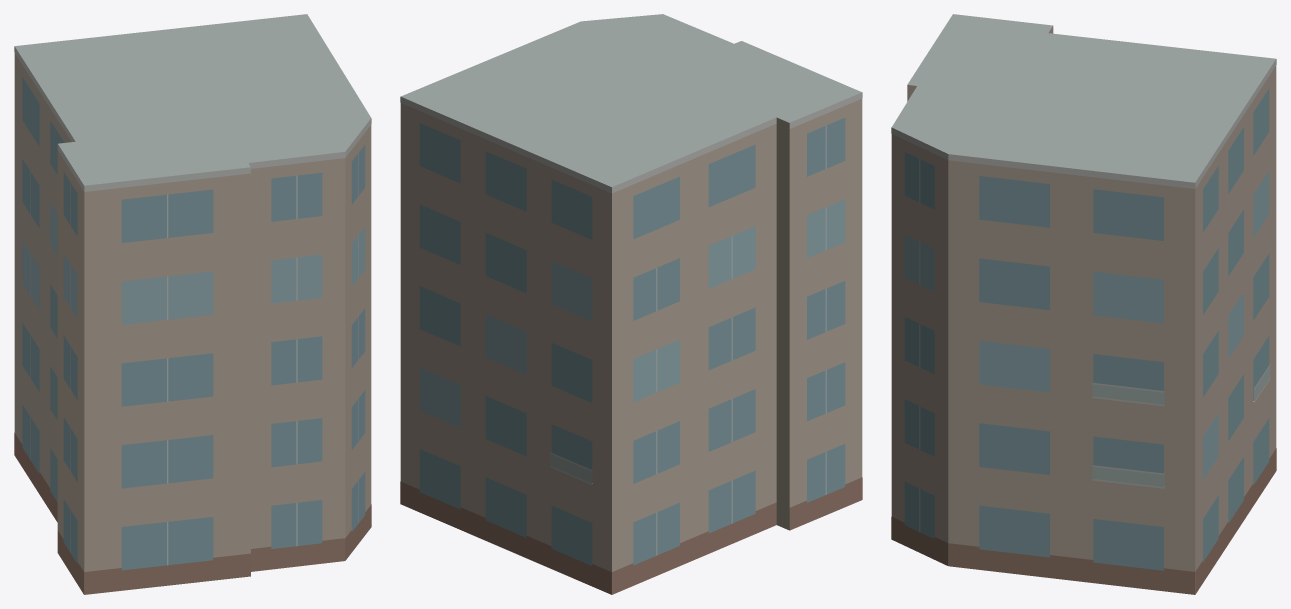
File: survey-upis-33007656.glb
3 views of the same model, side by side, from view 1: azimuth 30°, elevation 25°; view 2: azimuth 150°, elevation 25°; view 3: azimuth 270°, elevation 25° (orthographic).
Visible parts, largest first — view 1: survey-upis-33007656.tmp; view 2: survey-upis-33007656.tmp; view 3: survey-upis-33007656.tmp.
Boxes of the visible parts, x1=… form: survey-upis-33007656.tmp: x1=14, y1=14, x2=371, y2=594; survey-upis-33007656.tmp: x1=400, y1=14, x2=862, y2=594; survey-upis-33007656.tmp: x1=891, y1=14, x2=1276, y2=594.
Bounding box in the file's own units: 14.15 × 16.1 × 13.64.
